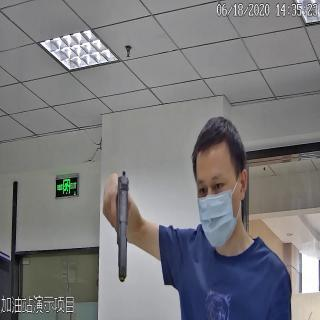gun: (103, 170, 132, 280)
